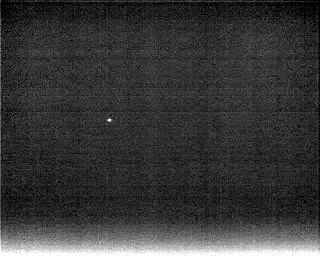AIRPLANE: (106, 116, 114, 124)
